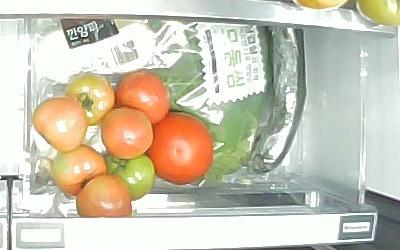tomato: (150, 110, 213, 186), (31, 97, 87, 152), (115, 69, 169, 125), (97, 106, 153, 160), (65, 72, 115, 125), (52, 146, 106, 195), (104, 152, 155, 200), (77, 175, 132, 219)
